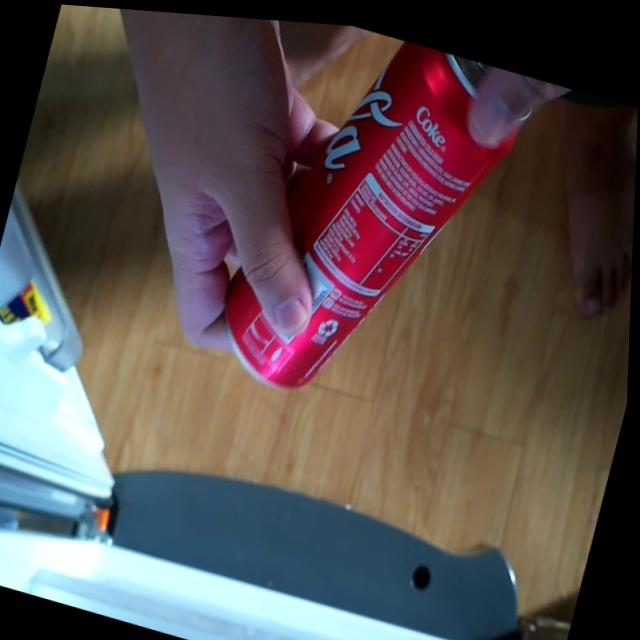coke: (195, 12, 536, 436)
